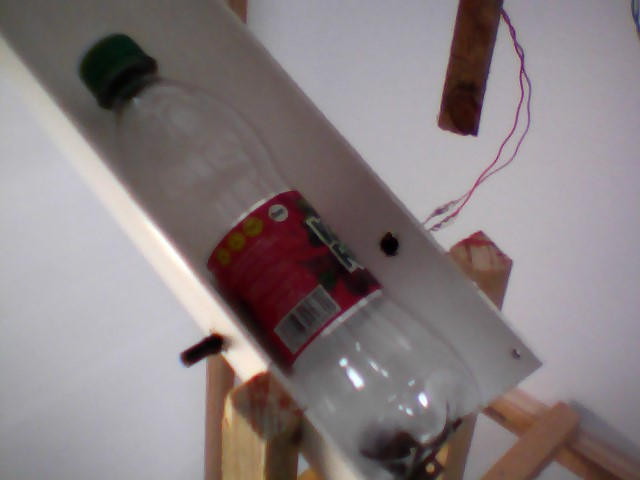plastico: (77, 25, 493, 480)
